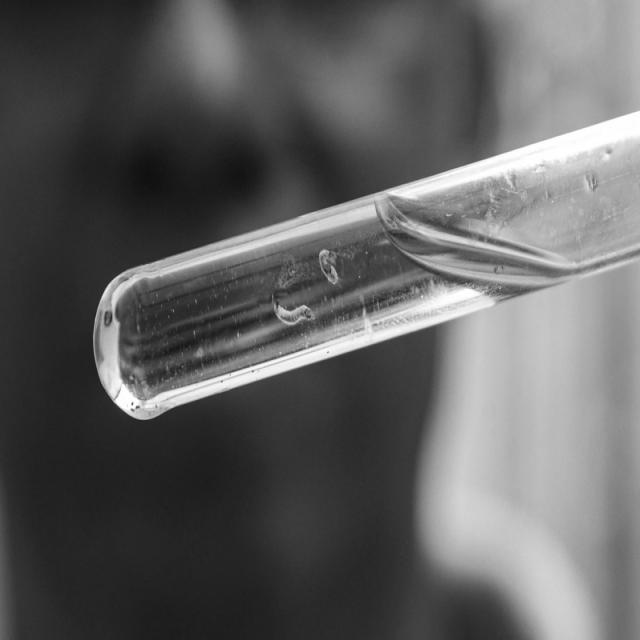larvas: (272, 300, 316, 322), (321, 252, 339, 286)
